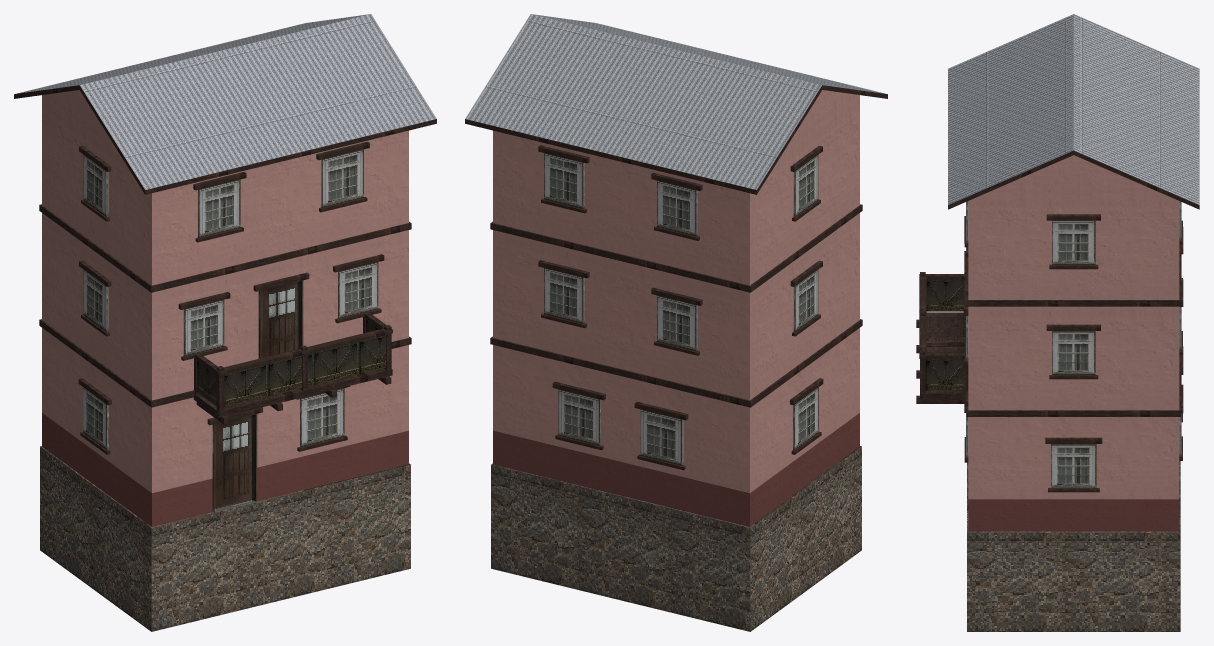
File: 19_andina3p_rosa_calamina.glb
3 renders of one model, left to right at view 1: azimuth 30°, elevation 25°; view 2: azimuth 150°, elevation 25°; view 3: azimuth 270°, elevation 25°, orthographic. The views are drawn at different scales.
Visible parts, largest first — view 1: 19_andina3p_rosa_calamina; view 2: 19_andina3p_rosa_calamina; view 3: 19_andina3p_rosa_calamina.
Boxes of the visible parts, x1,y1,x2,y2 form: 19_andina3p_rosa_calamina: (14, 14, 436, 631); 19_andina3p_rosa_calamina: (465, 14, 887, 631); 19_andina3p_rosa_calamina: (916, 14, 1199, 631).
Size of the model in its own units: 7.04 by 11.76 by 6.17.
Materials: 8 (8 with a texture image).
